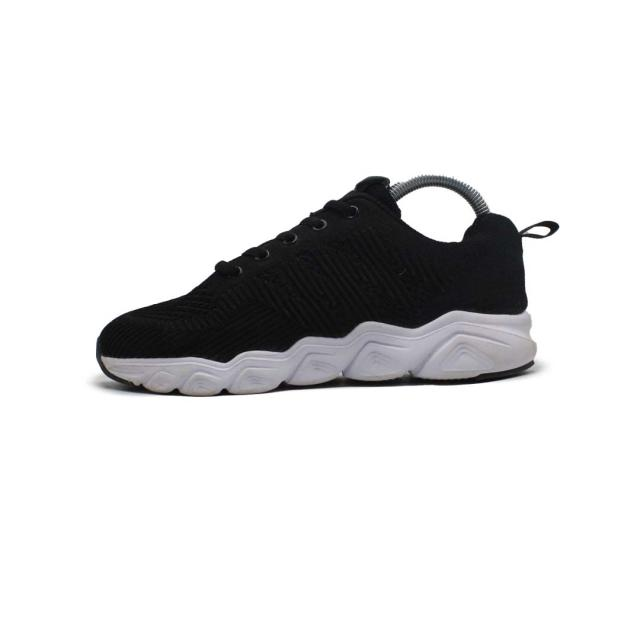heel: (500, 200, 559, 314)
midsole: (102, 312, 552, 393)
uppersole: (95, 192, 496, 360)
